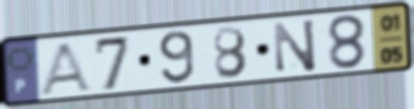7: (93, 36, 134, 92)
8: (325, 12, 368, 71), (211, 24, 249, 80)
9: (156, 29, 196, 86)
A: (36, 40, 96, 96)
N: (270, 16, 319, 74)
